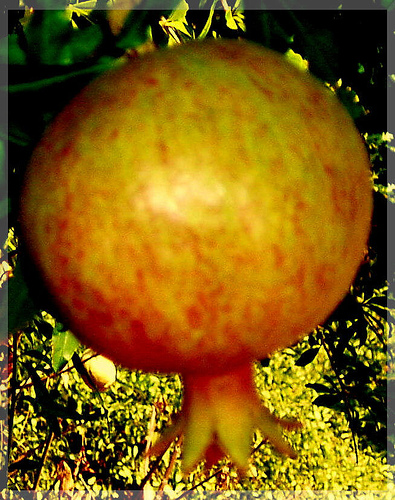pomogranate: (21, 41, 371, 473)
